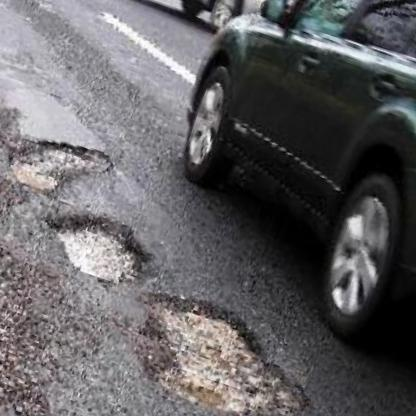pothole: (112, 274, 332, 416), (35, 196, 165, 300), (0, 117, 118, 214)
